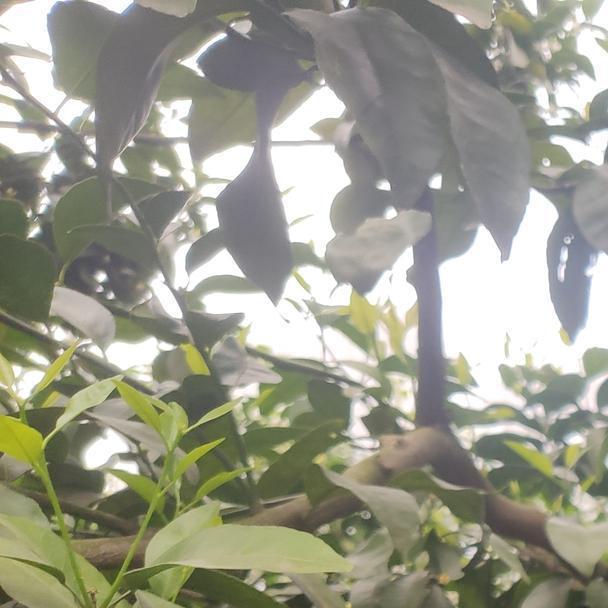shoot: (109, 386, 247, 552), (3, 350, 119, 523)
